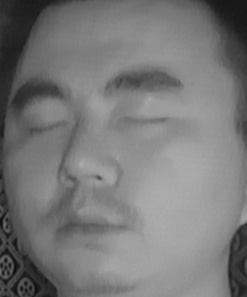blink: (118, 102, 172, 138), (24, 108, 71, 146)
mouth: (47, 192, 136, 250)
